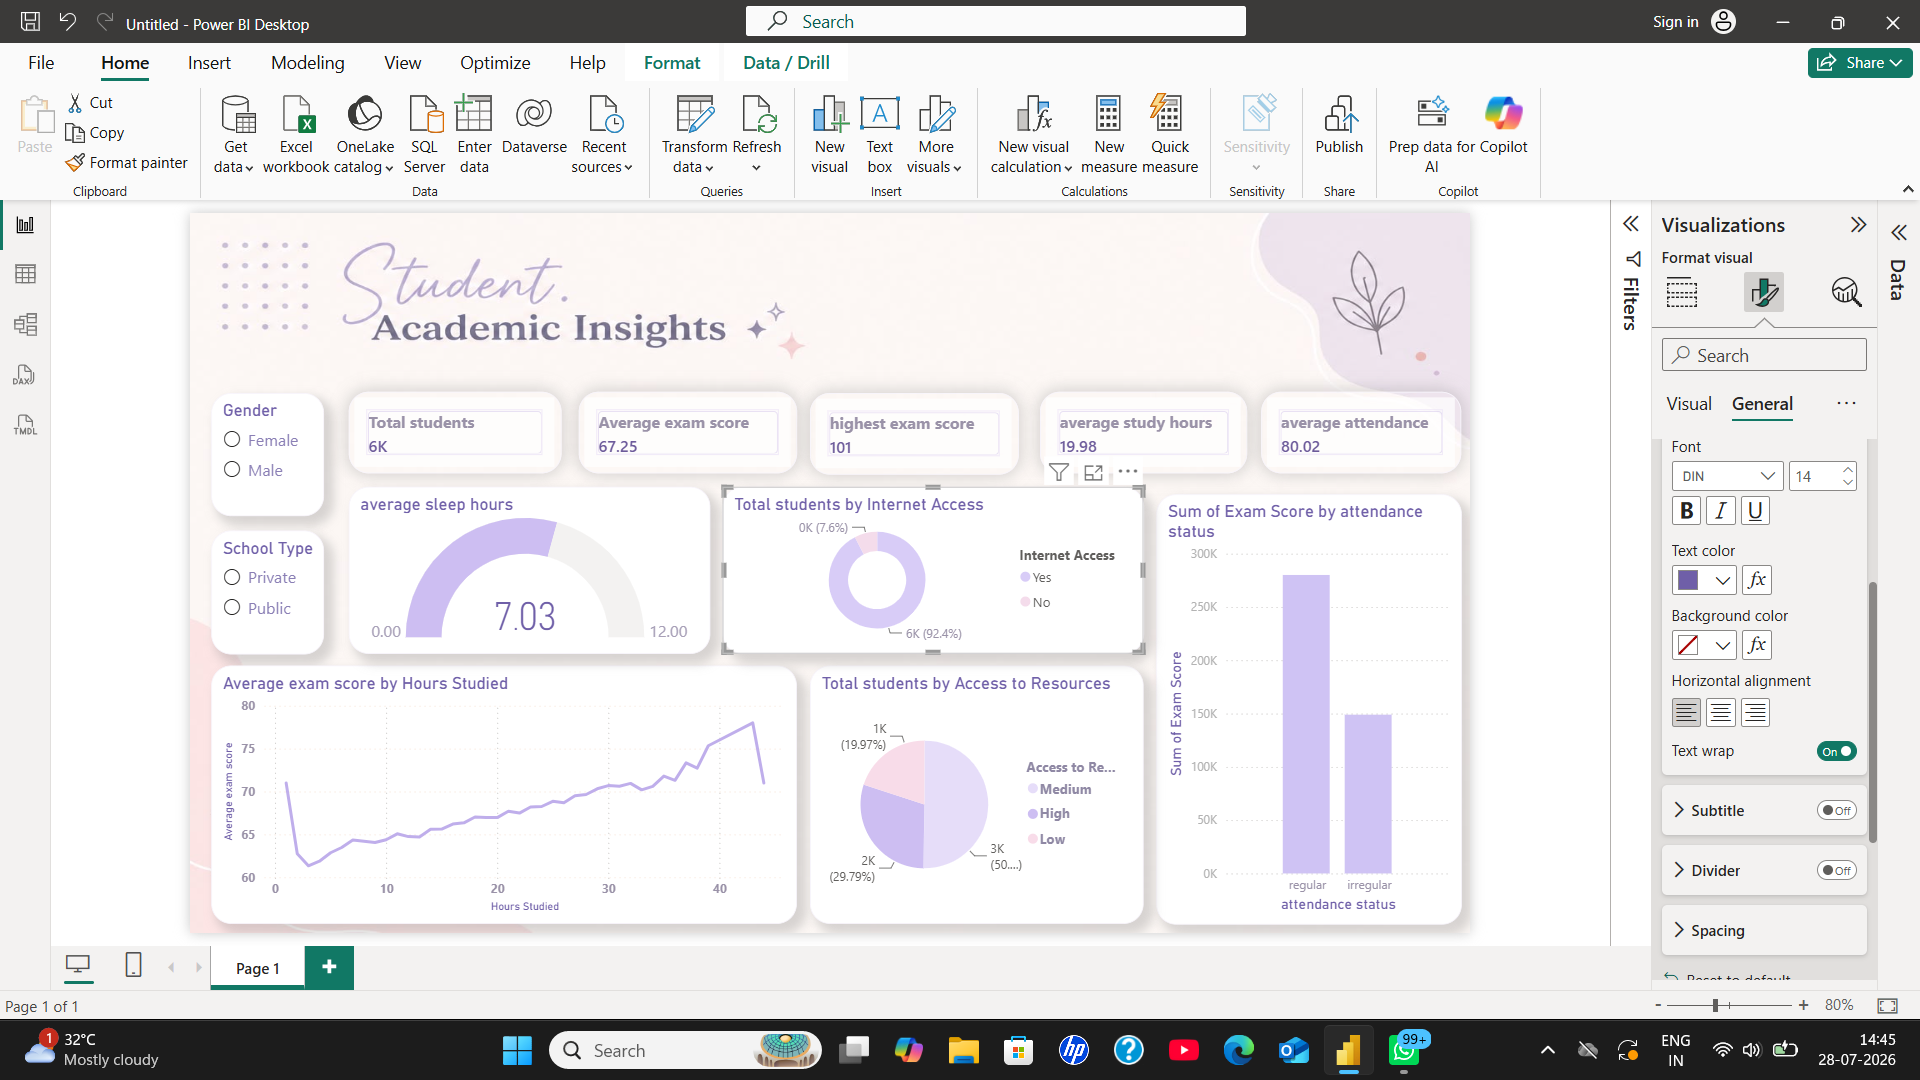

Layout of this report page (visuals, bound fields, positions):
{"tool":"powerbi","page":{"name":"Page 1","canvas":[1280,720],"ordinal":0},"visuals":[{"type":"cardVisual","fields":{"Data":["StudentPerformanceFactors.Total students"]},"box":[158.6,178.6,212.9,81.4],"z":1000},{"type":"cardVisual","fields":{"Data":["StudentPerformanceFactors.Average exam score"]},"box":[388.6,178.6,218.6,81.4],"z":2000},{"type":"cardVisual","fields":{"Data":["StudentPerformanceFactors.average study hours"]},"box":[850,178.6,207.1,81.4],"z":3000},{"type":"cardVisual","fields":{"Data":["StudentPerformanceFactors.average attendance"]},"box":[1071.4,178.6,200,81.4],"z":4000},{"type":"cardVisual","fields":{"Data":["StudentPerformanceFactors.highest exam score"]},"box":[620,180,208.6,81.4],"z":5000},{"type":"clusteredColumnChart","fields":{"Category":["StudentPerformanceFactors.attendance status"],"Y":["Sum(StudentPerformanceFactors.Exam Score)"]},"box":[965.7,281.4,305.7,430],"z":6000},{"type":"donutChart","fields":{"Category":["StudentPerformanceFactors.Internet Access"],"Y":["StudentPerformanceFactors.Total students"]},"box":[532.5,273.8,421.2,167.5],"z":7000},{"type":"listSlicer","fields":{"Values":["StudentPerformanceFactors.Gender"]},"box":[21.4,180,112.9,122.9],"z":8000},{"type":"listSlicer","fields":{"Values":["StudentPerformanceFactors.School Type"]},"box":[21.4,317.1,112.9,124.3],"z":9000},{"type":"lineChart","fields":{"Category":["StudentPerformanceFactors.Hours Studied"],"Y":["StudentPerformanceFactors.Average exam score"]},"box":[21.4,452.9,585.7,258.6],"z":10000},{"type":"gauge","fields":{"Y":["StudentPerformanceFactors.average sleep hours"]},"box":[158.8,273.8,361.2,167.5],"z":11000},{"type":"pieChart","fields":{"Category":["StudentPerformanceFactors.Access to Resources"],"Y":["StudentPerformanceFactors.Total students"]},"box":[620,452.5,333.8,258.8],"z":12000}]}

Visuals, with their boxes on the page's 1280x720 design canvas (x1, y1, x2, y2). These are canvas units, not pixel positions in the 1920x1080 screenshot, which may show the page scaled, cropped or inside an application window:
cardVisual - StudentPerformanceFactors.Total students: Rect(159, 179, 372, 260)
cardVisual - StudentPerformanceFactors.Average exam score: Rect(389, 179, 607, 260)
cardVisual - StudentPerformanceFactors.average study hours: Rect(850, 179, 1057, 260)
cardVisual - StudentPerformanceFactors.average attendance: Rect(1071, 179, 1271, 260)
cardVisual - StudentPerformanceFactors.highest exam score: Rect(620, 180, 829, 261)
clusteredColumnChart - StudentPerformanceFactors.attendance status x Sum(StudentPerformanceFactors.Exam Score): Rect(966, 281, 1271, 711)
donutChart - StudentPerformanceFactors.Internet Access x StudentPerformanceFactors.Total students: Rect(532, 274, 954, 441)
listSlicer - StudentPerformanceFactors.Gender: Rect(21, 180, 134, 303)
listSlicer - StudentPerformanceFactors.School Type: Rect(21, 317, 134, 441)
lineChart - StudentPerformanceFactors.Hours Studied x StudentPerformanceFactors.Average exam score: Rect(21, 453, 607, 712)
gauge - StudentPerformanceFactors.average sleep hours: Rect(159, 274, 520, 441)
pieChart - StudentPerformanceFactors.Access to Resources x StudentPerformanceFactors.Total students: Rect(620, 452, 954, 711)
